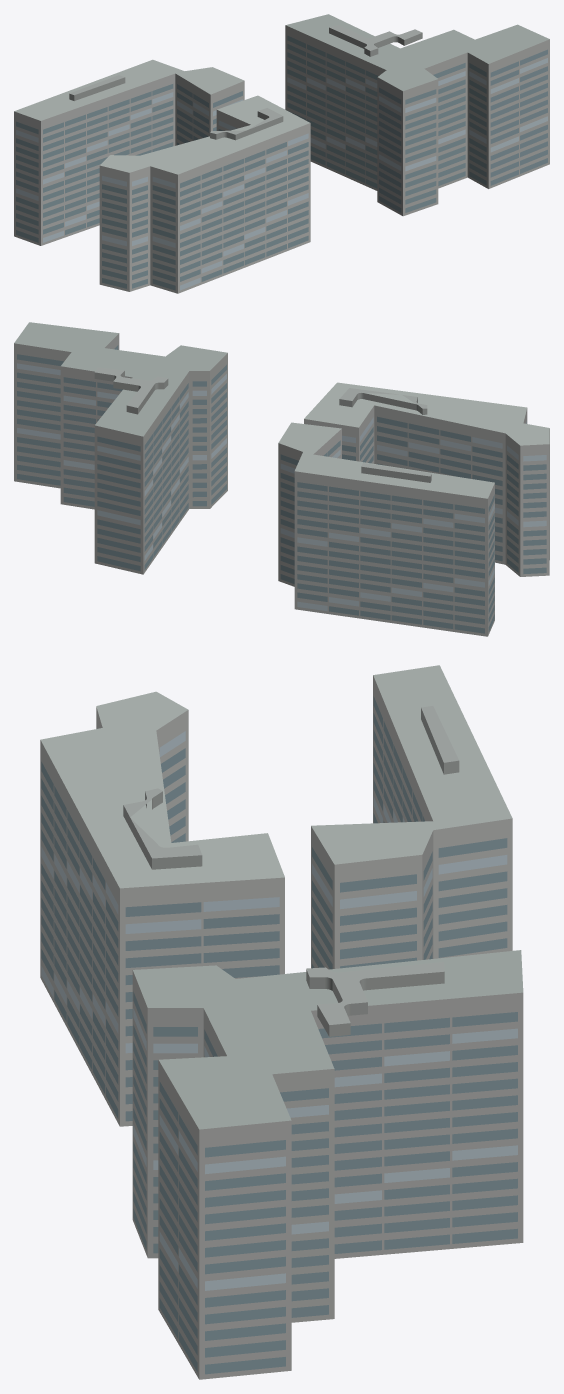
Rendered from apt-a13920104.glb.
The picture shows the model from 3 angles, top to bottom: view 1: azimuth 30°, elevation 25°; view 2: azimuth 150°, elevation 25°; view 3: azimuth 270°, elevation 25°; orthographic projection. The views are drawn at different scales.
Parts seen in each view (by area): view 1: apt-a13920104; view 2: apt-a13920104; view 3: apt-a13920104.
Part boxes in pixels (x1,y1,x2,y2): apt-a13920104: (14, 14, 549, 293); apt-a13920104: (14, 322, 549, 636); apt-a13920104: (40, 665, 523, 1379).
Size of the model in its own units: 160 by 42 by 70.19.
